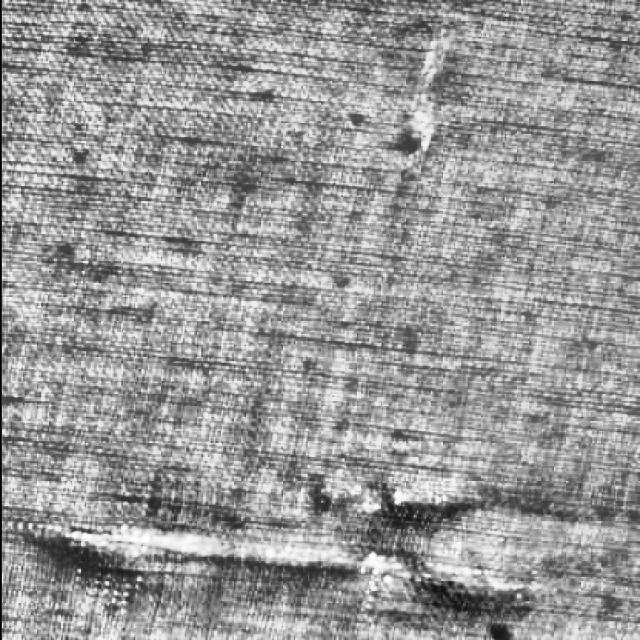thread_error: (6, 501, 549, 640), (283, 468, 543, 536), (382, 19, 456, 181)
